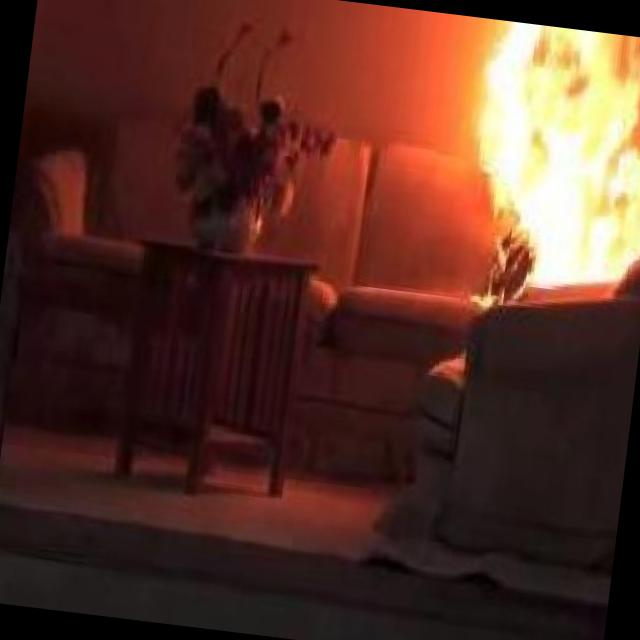fire: (425, 17, 640, 372)
